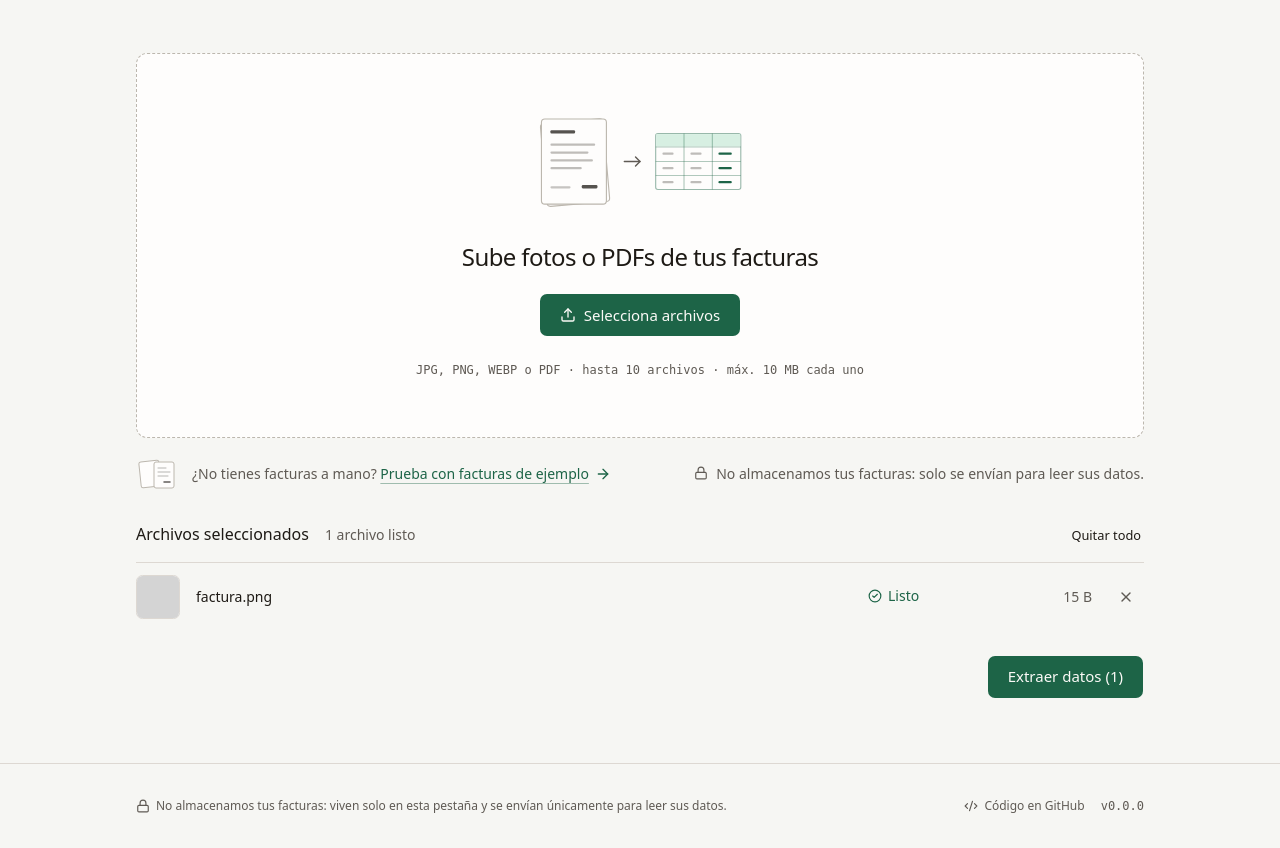
Upload → extract › explains network errors
Earlier steps of the test are not shown.
(page scrolled)
Click the button "Extraer datos (1)" at (1065, 676), box [987,654,1144,698]
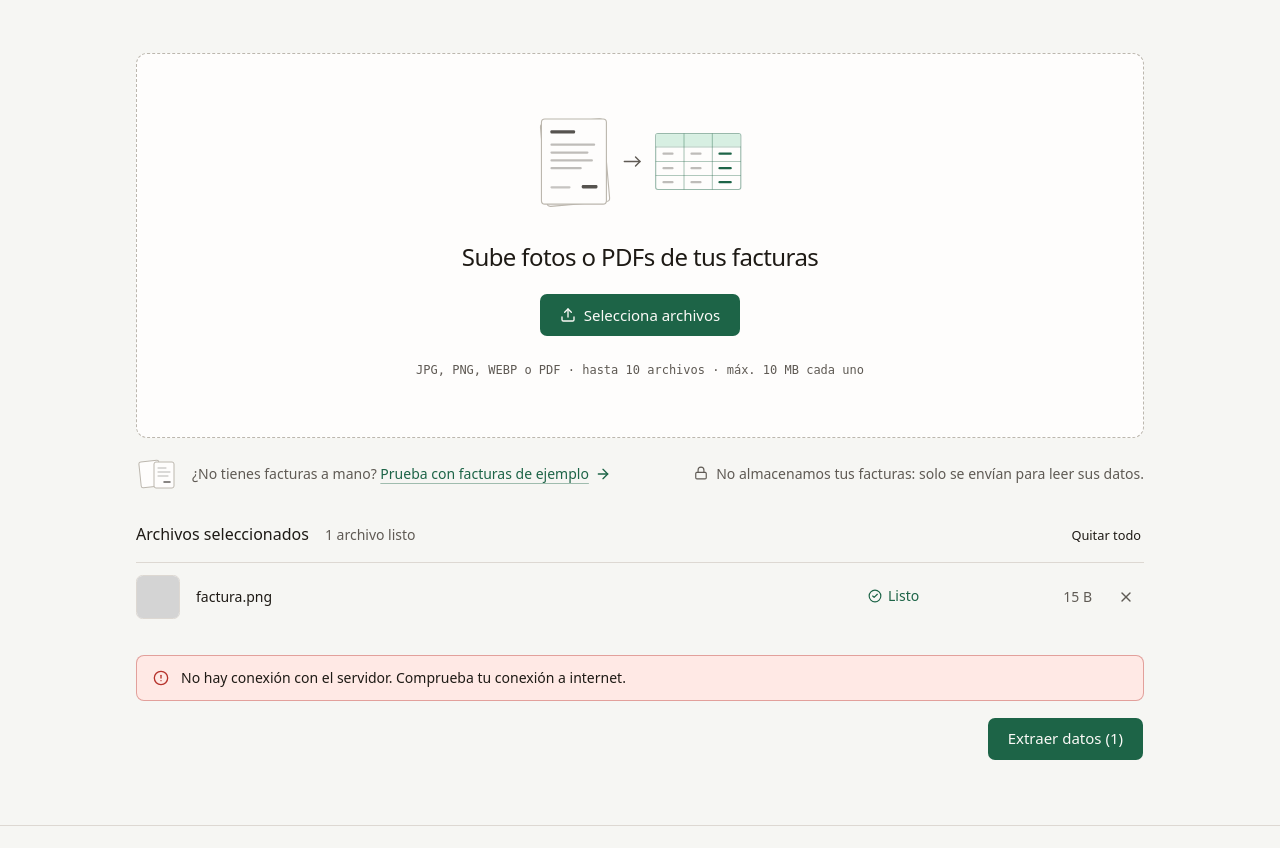
Expected: the message reads "No hay conexión con el servidor. Comprueba tu conexión a internet.", [181,668,626,686]
